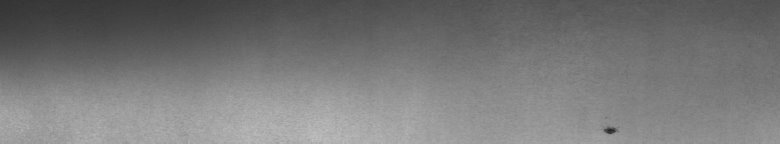fi: (597, 117, 622, 136)
